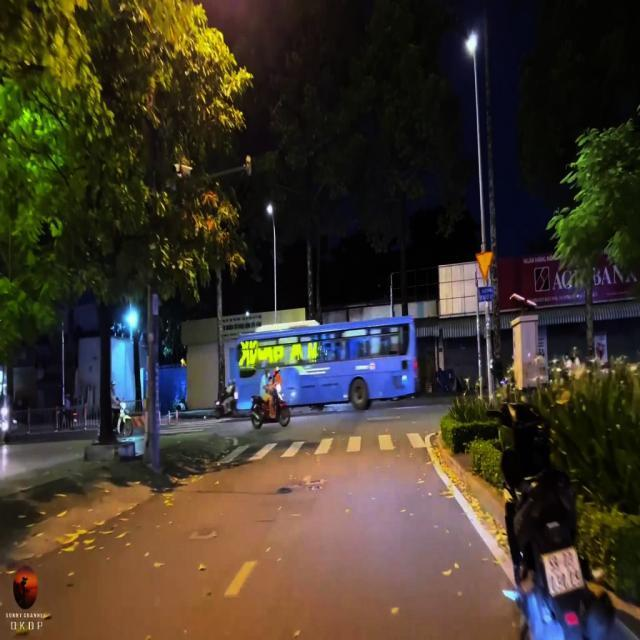208-giao-nhau-voi-duong-uu-tien: (474, 252, 494, 280)
